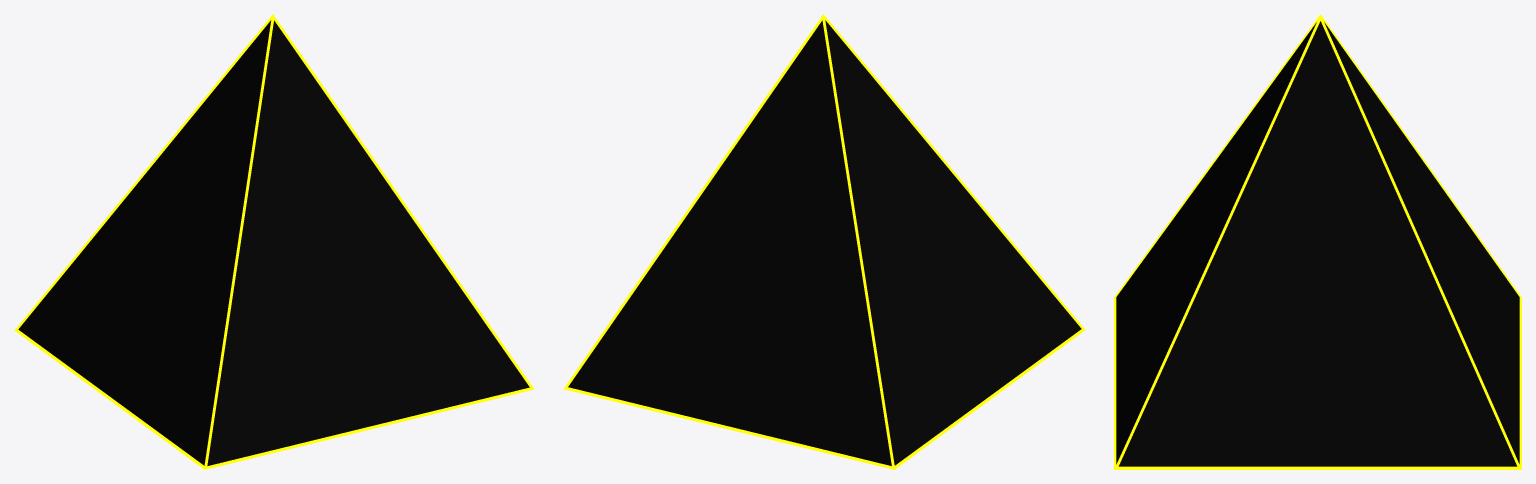
The picture shows the model from 3 angles, left to right: view 1: azimuth 30°, elevation 25°; view 2: azimuth 150°, elevation 25°; view 3: azimuth 270°, elevation 25°; orthographic projection. The views are drawn at different scales.
Visible parts, largest first — view 1: Cube; view 2: Cube; view 3: Cube.
Part boxes in pixels (<box>): Cube: <box>14,14,534,469</box>; Cube: <box>563,14,1085,469</box>; Cube: <box>1114,14,1521,469</box>.
Size of the model in its own units: 2.01 by 2.01 by 2.01.
